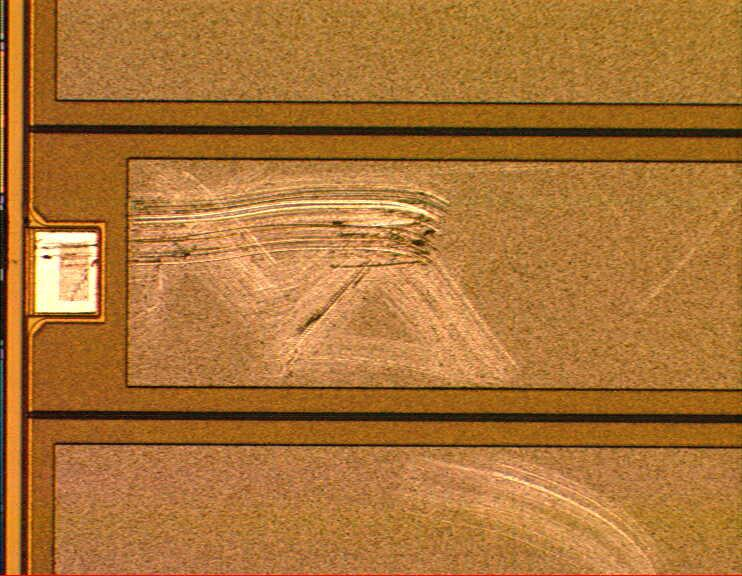SCRATCH: (1, 149, 742, 576)
